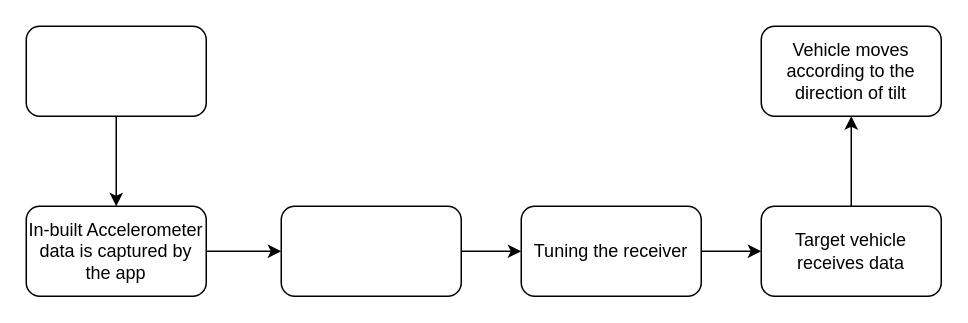
Image size: 968x323. Some labels were removed from this diagram. Each missing label, with the box of its shape:
App encodes the data and sends it to the receiver via the network: (280, 205, 461, 296)
Tilt your mobile phone in any direction: (25, 25, 206, 116)
